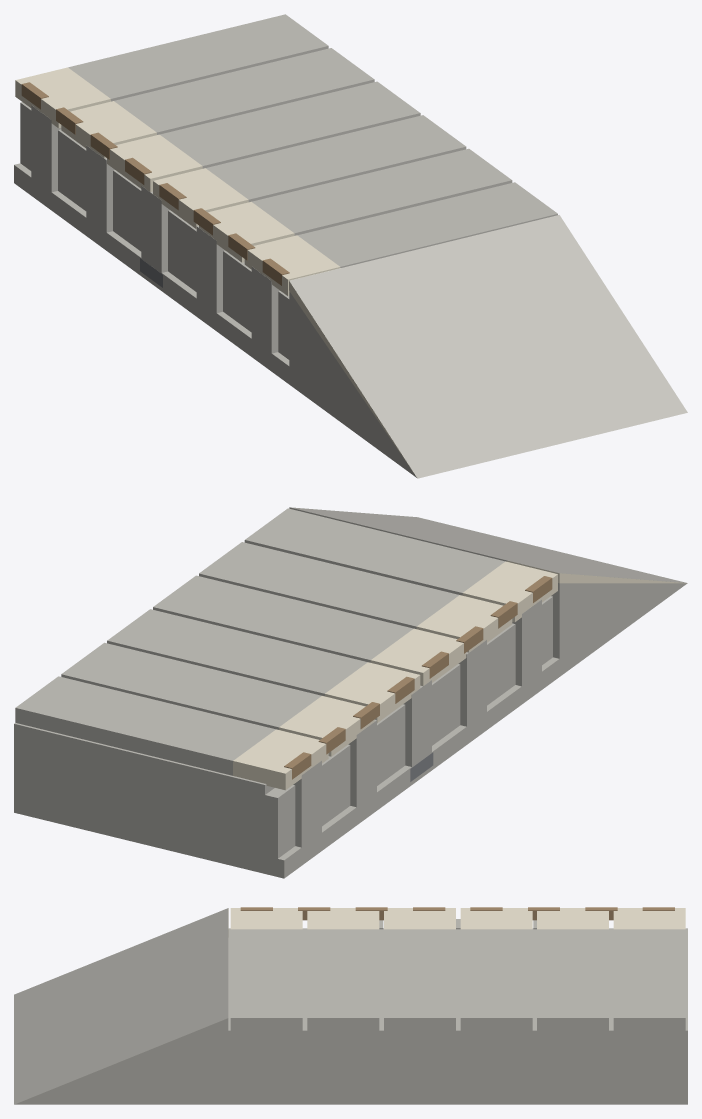
Rendered from steam-era-railway-and-rolling-stock-platform-module-ra-293fc360.glb.
The picture shows the model from 3 angles, top to bottom: view 1: azimuth 30°, elevation 25°; view 2: azimuth 150°, elevation 25°; view 3: azimuth 270°, elevation 25°; orthographic projection. The views are drawn at different scales.
Parts seen in each view (by area): view 1: platform-module-ramp; view 2: platform-module-ramp; view 3: platform-module-ramp.
Boxes of the visible parts, bbox=[...] form: platform-module-ramp: bbox=[14, 14, 687, 478]; platform-module-ramp: bbox=[14, 507, 687, 878]; platform-module-ramp: bbox=[14, 907, 687, 1104].
Size of the model in its own units: 3.4 by 1.26 by 8.8.
